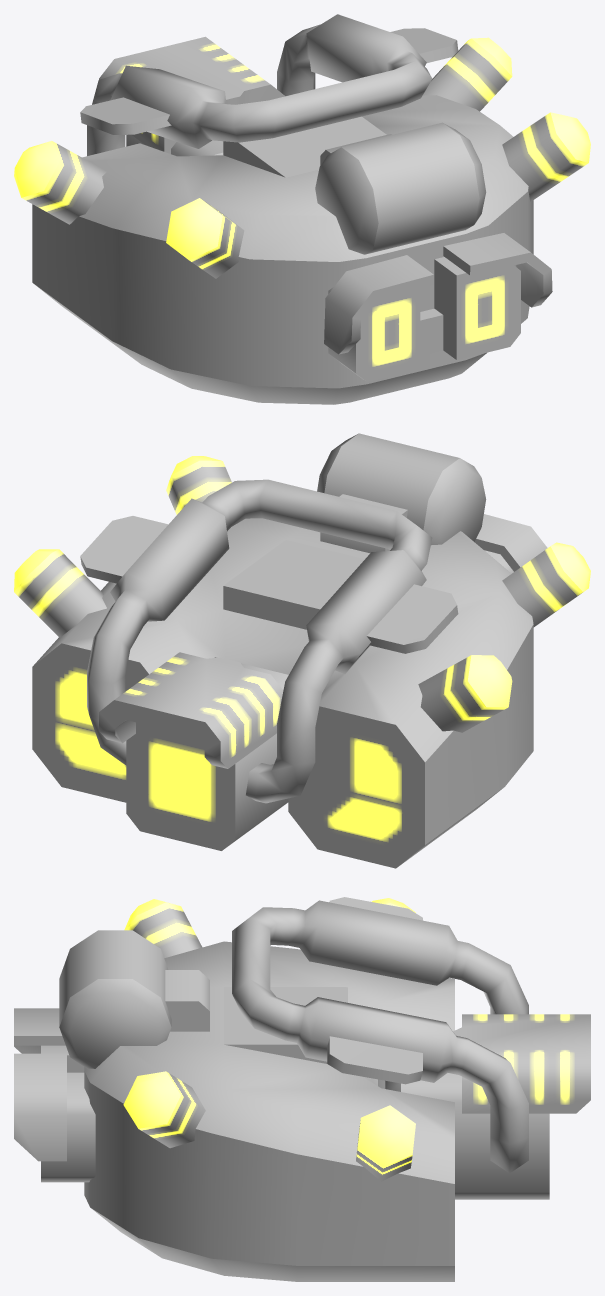
Rendered from Enemy_Flamer.gltf.
3 renders of one model, top to bottom at view 1: azimuth 30°, elevation 25°; view 2: azimuth 150°, elevation 25°; view 3: azimuth 270°, elevation 25°, orthographic.
Visible parts, largest first — view 1: imported_Meshes; view 2: imported_Meshes; view 3: imported_Meshes.
Boxes of the visible parts, x1,y1,x2,y2 form: imported_Meshes: [14, 14, 590, 404]; imported_Meshes: [14, 433, 590, 868]; imported_Meshes: [14, 897, 590, 1281].
Bounding box in the file's own units: 0.3465 × 0.1731 × 0.3574.
